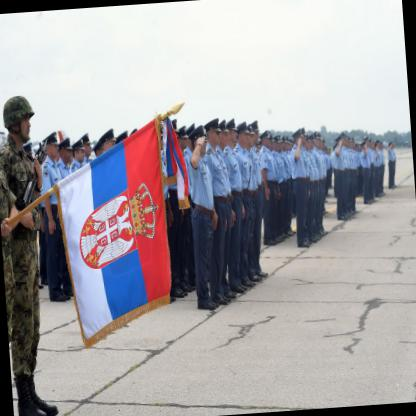rs: (49, 116, 178, 352)
